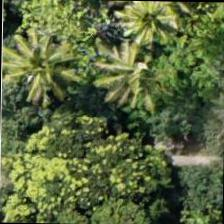Kelapa_Sawit: (82, 31, 174, 122), (0, 18, 88, 110)
